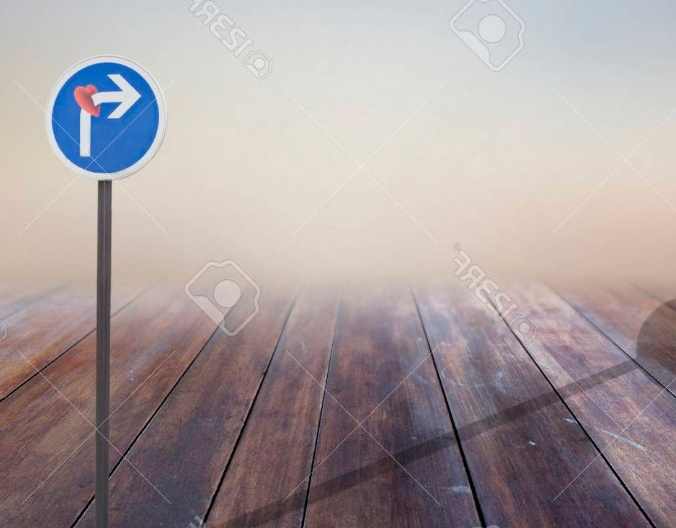Turn right: (34, 48, 169, 181)
